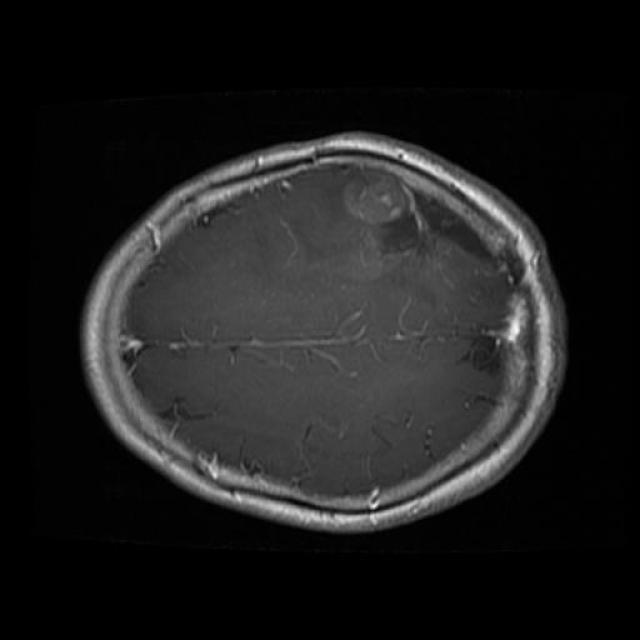Glioma: (325, 168, 496, 262), (462, 323, 515, 371)
